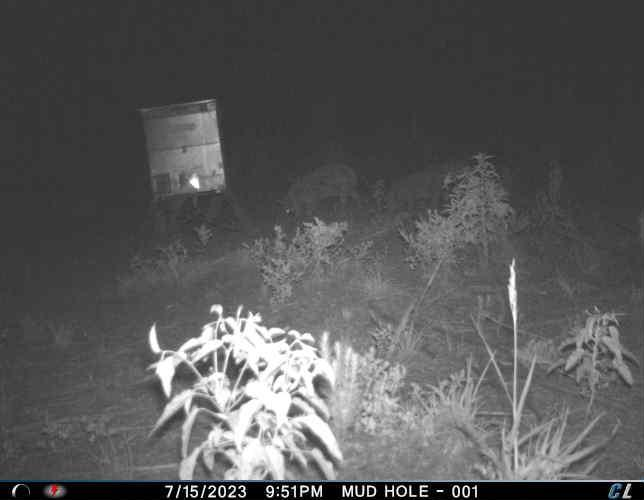Hog: (277, 158, 361, 226), (381, 164, 453, 219)
